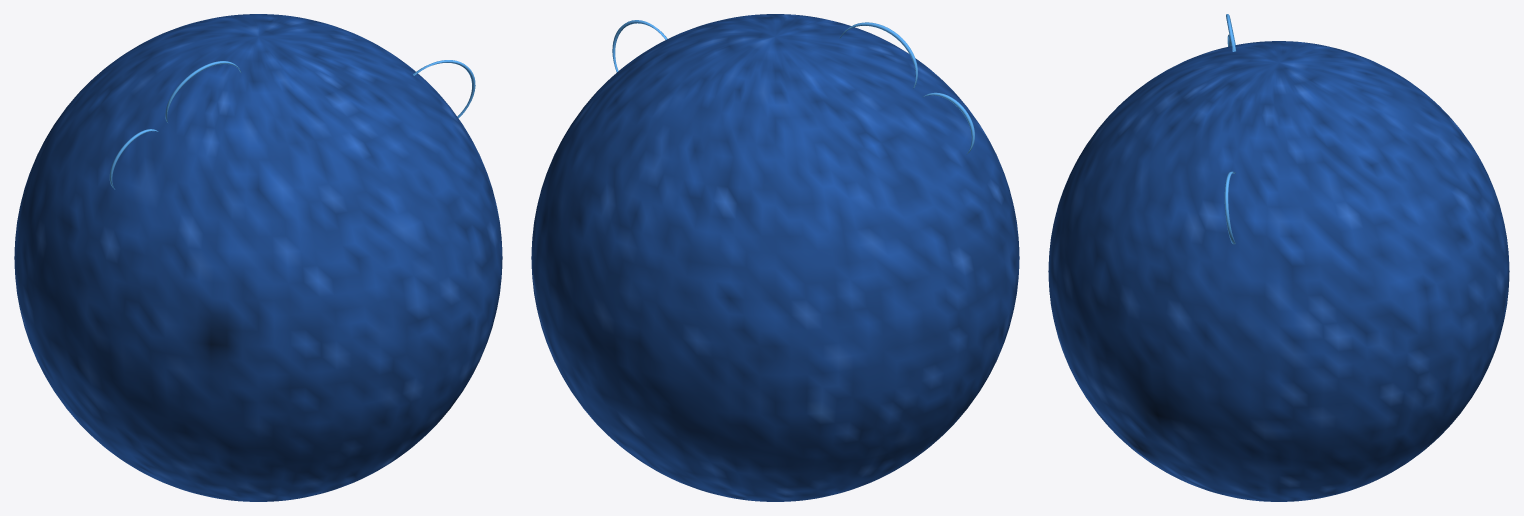
Rendered from Star_49.fbx.
The picture shows the model from 3 angles, left to right: view 1: azimuth 30°, elevation 25°; view 2: azimuth 150°, elevation 25°; view 3: azimuth 270°, elevation 25°; orthographic projection. The views are drawn at different scales.
Visible parts, largest first — view 1: Star_49; view 2: Star_49; view 3: Star_49.
Boxes of the visible parts, box(x1,y1,x2,y2) form: Star_49: box(14, 14, 502, 501); Star_49: box(531, 14, 1019, 501); Star_49: box(1048, 14, 1509, 501).
Size of the model in its own units: 200 by 205 by 200.
